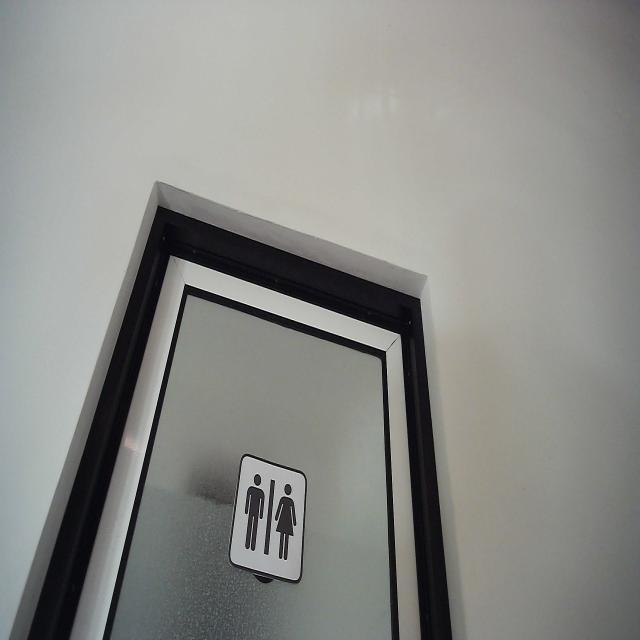restroom: (226, 448, 309, 587)
